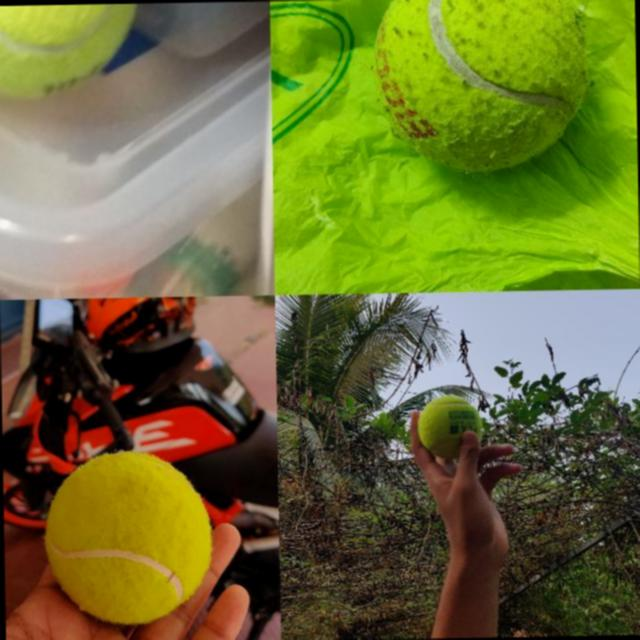tennis-ball: (369, 0, 593, 175), (42, 450, 214, 625), (0, 3, 142, 101), (416, 394, 482, 458)
